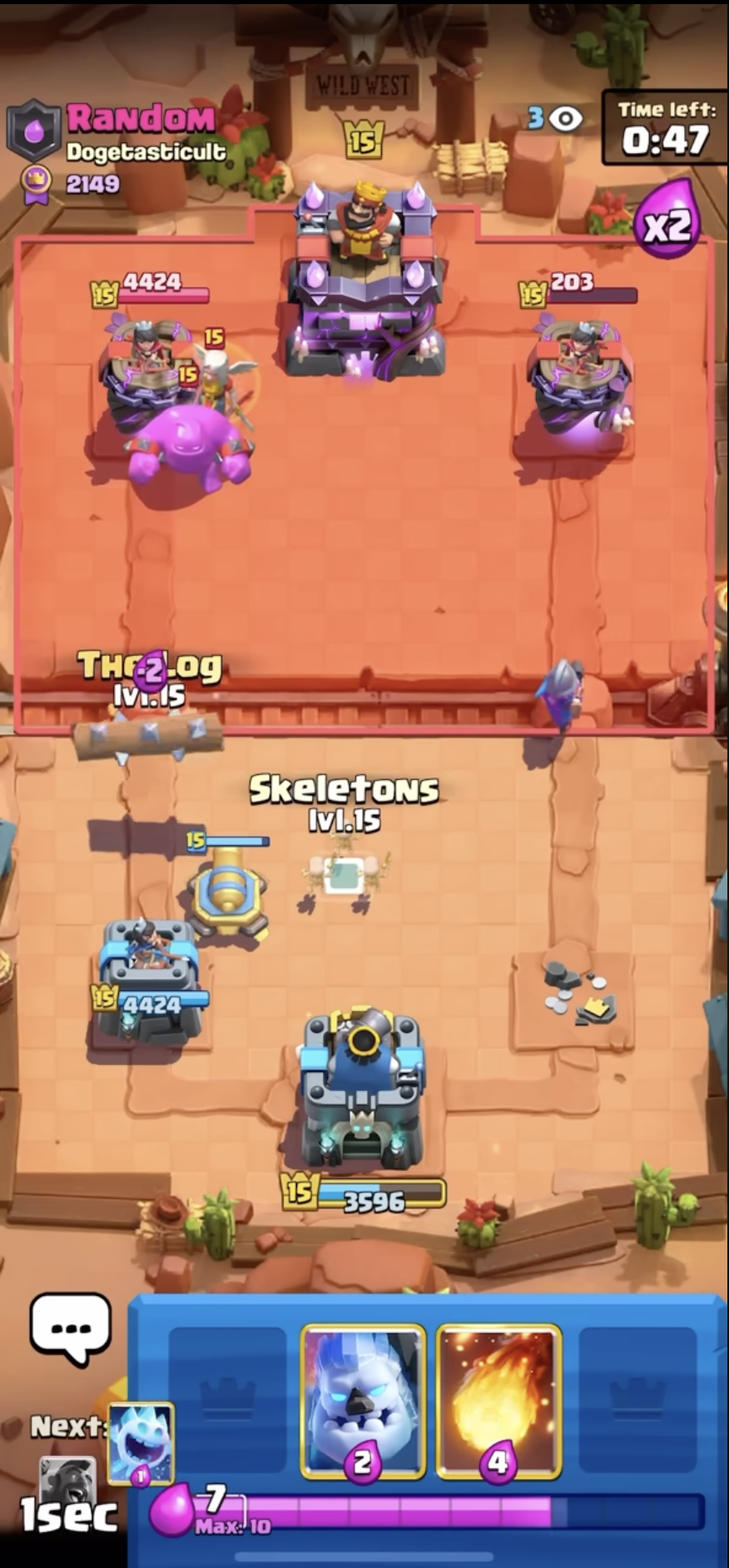cannon: (172, 813, 294, 956)
evo_musketeer: (533, 630, 604, 770)
log: (50, 691, 247, 781)
